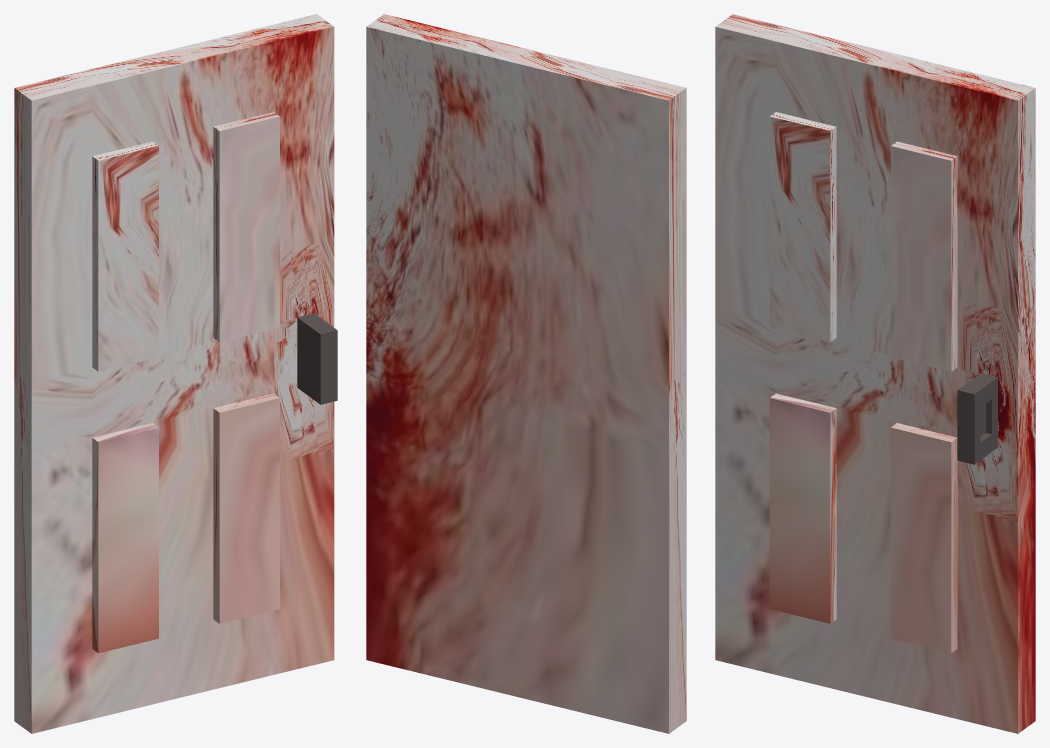
Rendered from Puerta_20.fbx.
3 views of the same model, side by side, from view 1: azimuth 30°, elevation 25°; view 2: azimuth 150°, elevation 25°; view 3: azimuth 330°, elevation 25° (orthographic).
Parts seen in each view (by area): view 1: Cube.020; view 2: Cube.020; view 3: Cube.020.
Boxes of the visible parts, x1,y1,x2,y2 form: Cube.020: (14,14,337,733); Cube.020: (366,14,686,733); Cube.020: (715,14,1035,733).
Bounding box in the file's own units: 200 × 400 × 46.87.
